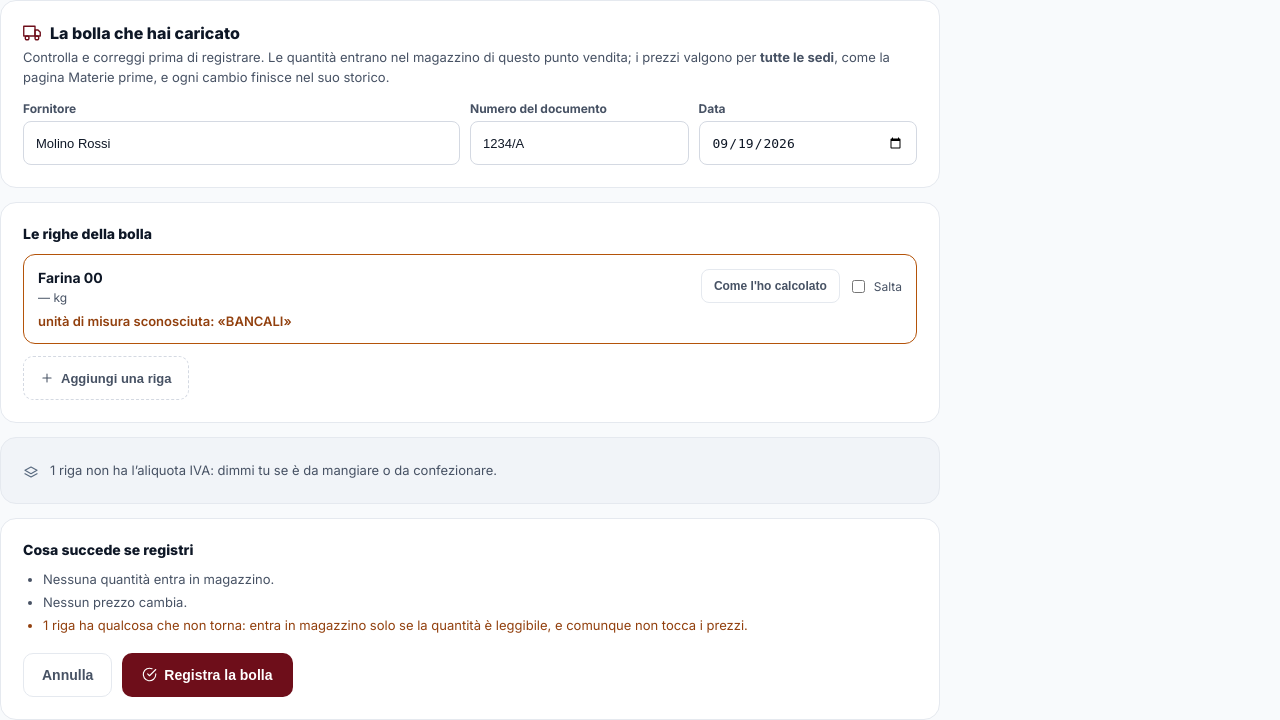
Test: Il menù delle unità contiene anche quello che c'è scritto sulla bolla › un'unità che non sa leggere la dichiara, invece di far finta di niente
This screenshot has width=1280, height=720.
Step 1. Click the button "Come l'ho calcolato" → click(770, 286), box x1=701 y1=269 x2=840 y2=303
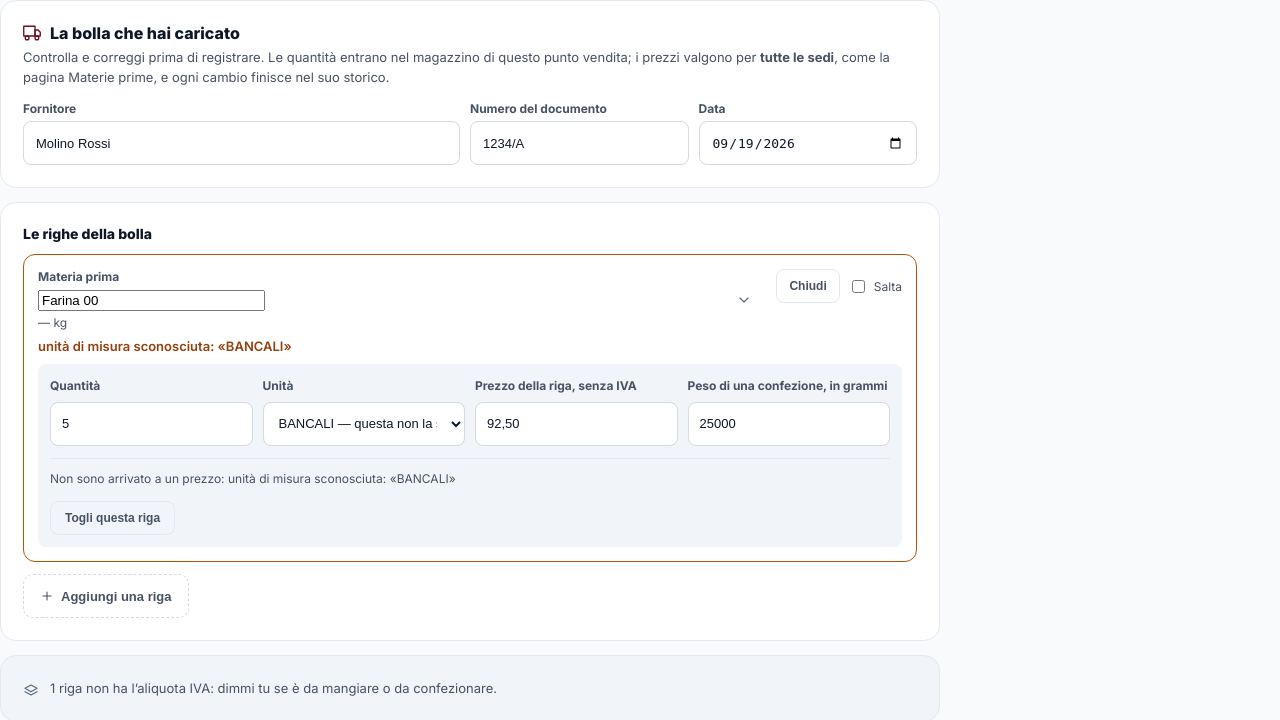
Check: the dropdown labelled "Unità" shows "BANCALI — questa non la so leggere: scegline una", box x1=262 y1=402 x2=465 y2=446
